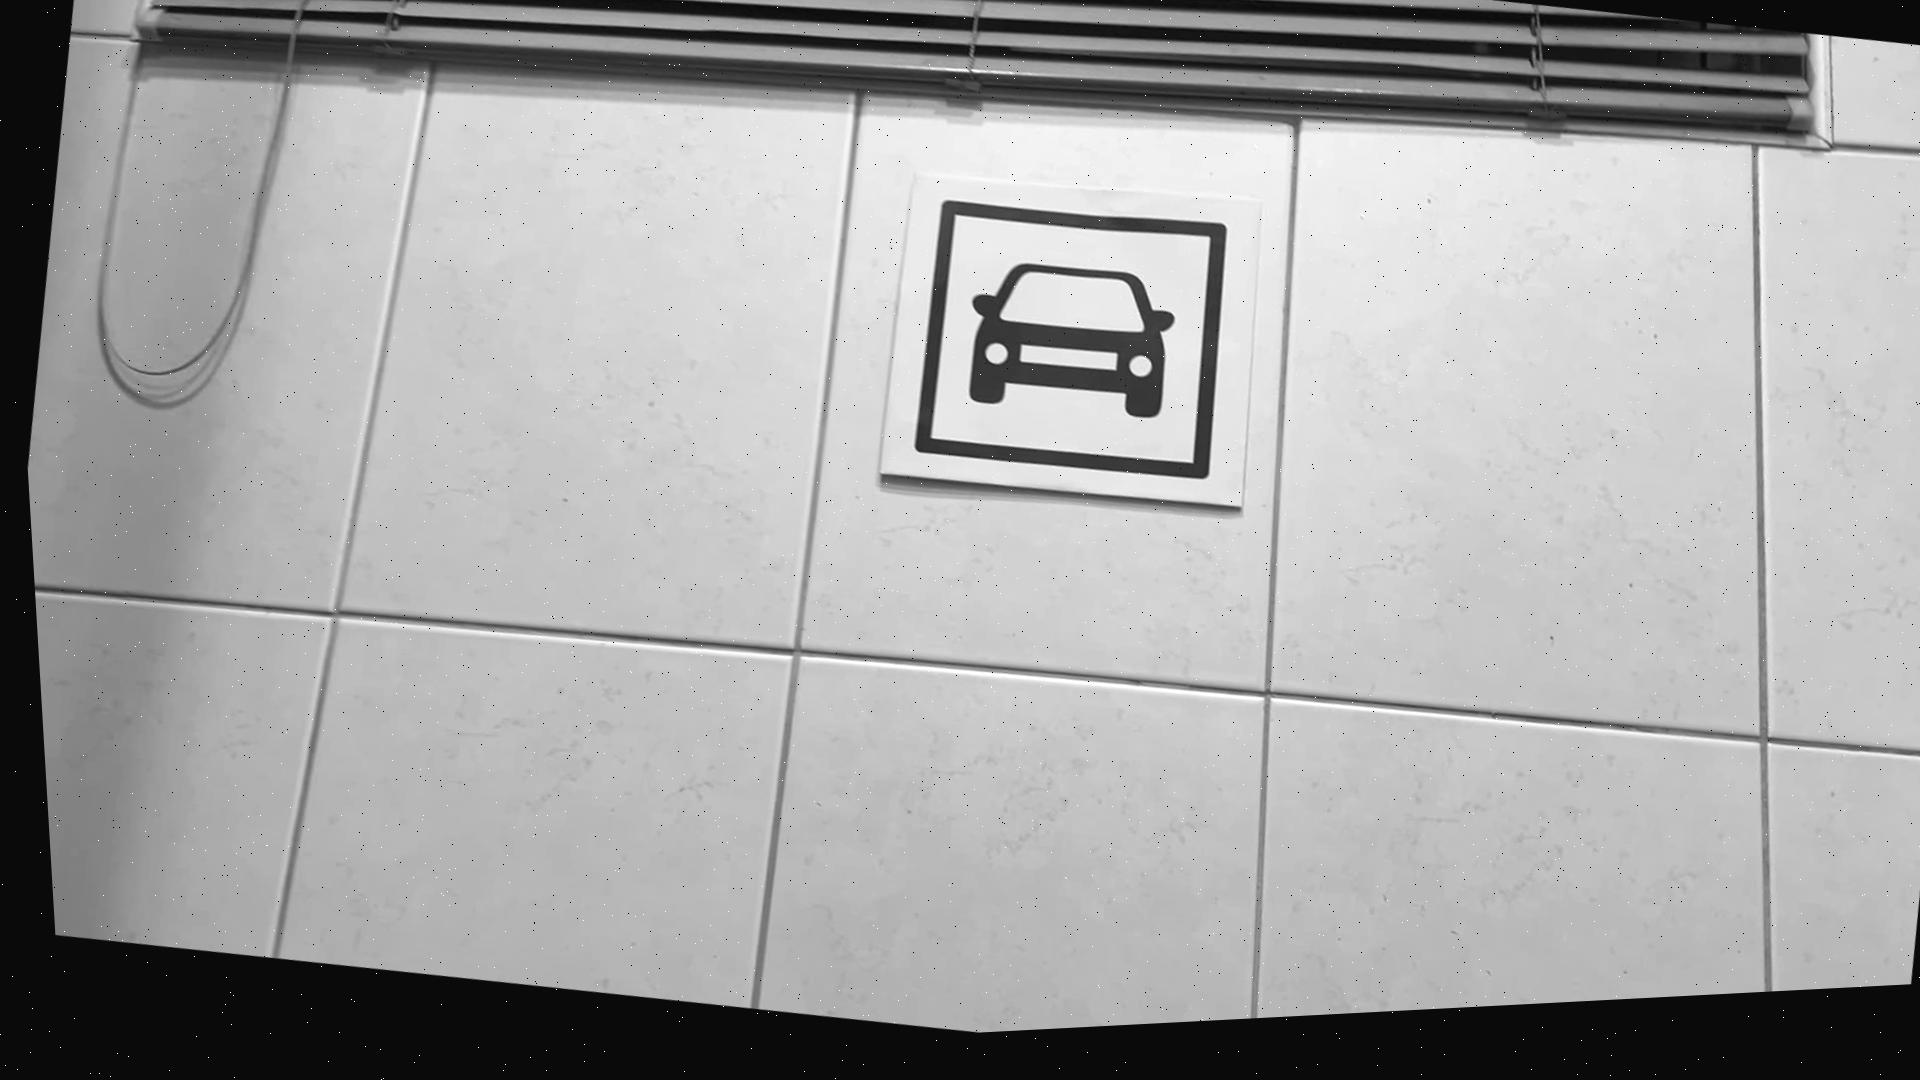car_img: (889, 182, 1249, 514)
